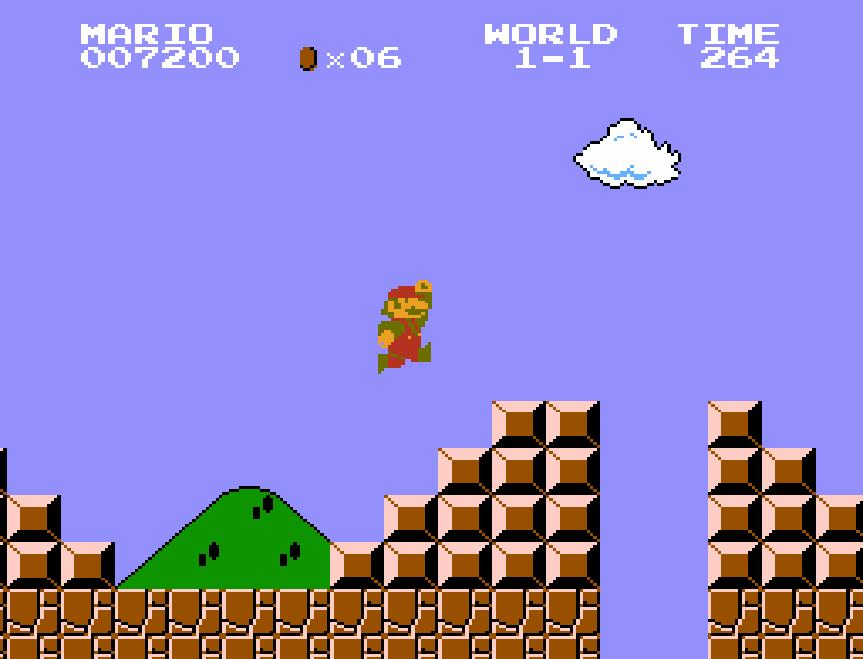big_mario: (376, 278, 434, 376)
